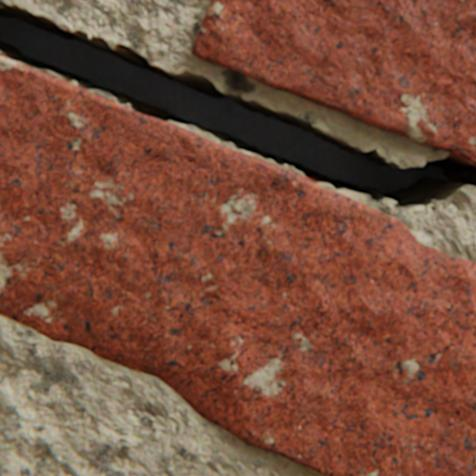brick: (0, 56, 475, 475), (192, 0, 475, 164)
crack: (0, 0, 475, 208)
